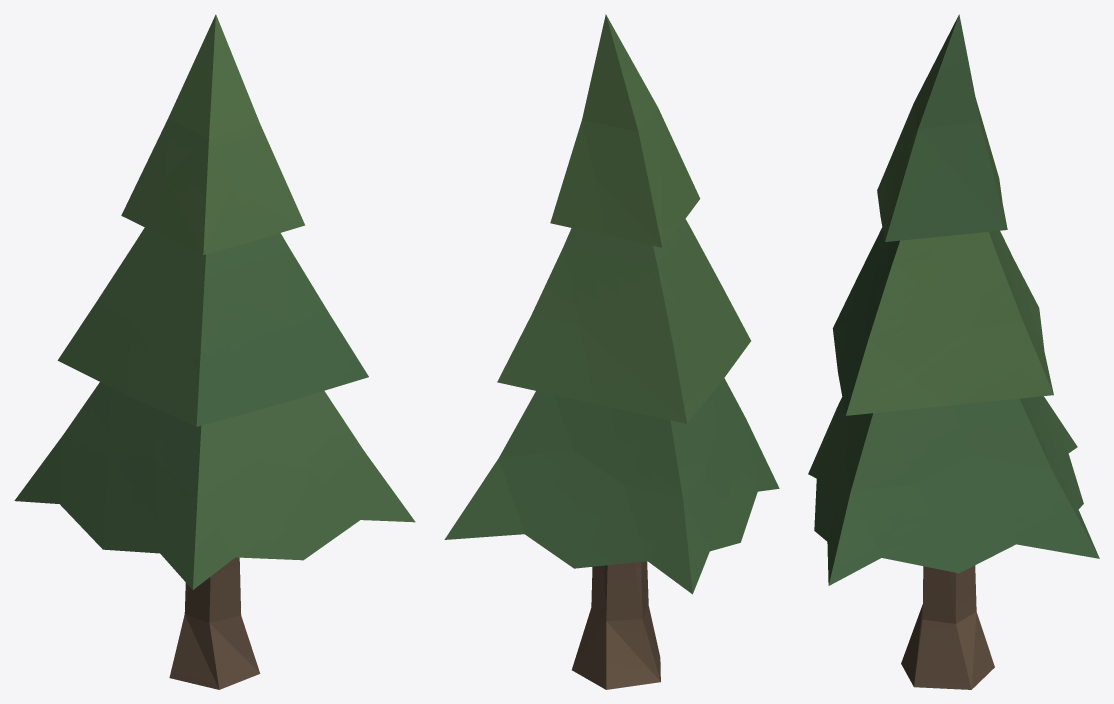
The model's file is tree-spruce-0-1.glb.
The picture shows the model from 3 angles, left to right: view 1: azimuth 30°, elevation 25°; view 2: azimuth 150°, elevation 25°; view 3: azimuth 270°, elevation 25°; orthographic projection. The views are drawn at different scales.
Parts seen in each view (by area): view 1: tree-spruce; view 2: tree-spruce; view 3: tree-spruce.
Part boxes in pixels (x1,y1,x2,y2): tree-spruce: [14, 14, 415, 689]; tree-spruce: [444, 14, 779, 689]; tree-spruce: [808, 14, 1099, 689].
Size of the model in its own units: 2.7 by 6 by 2.4.
1 material, 1 textured.
